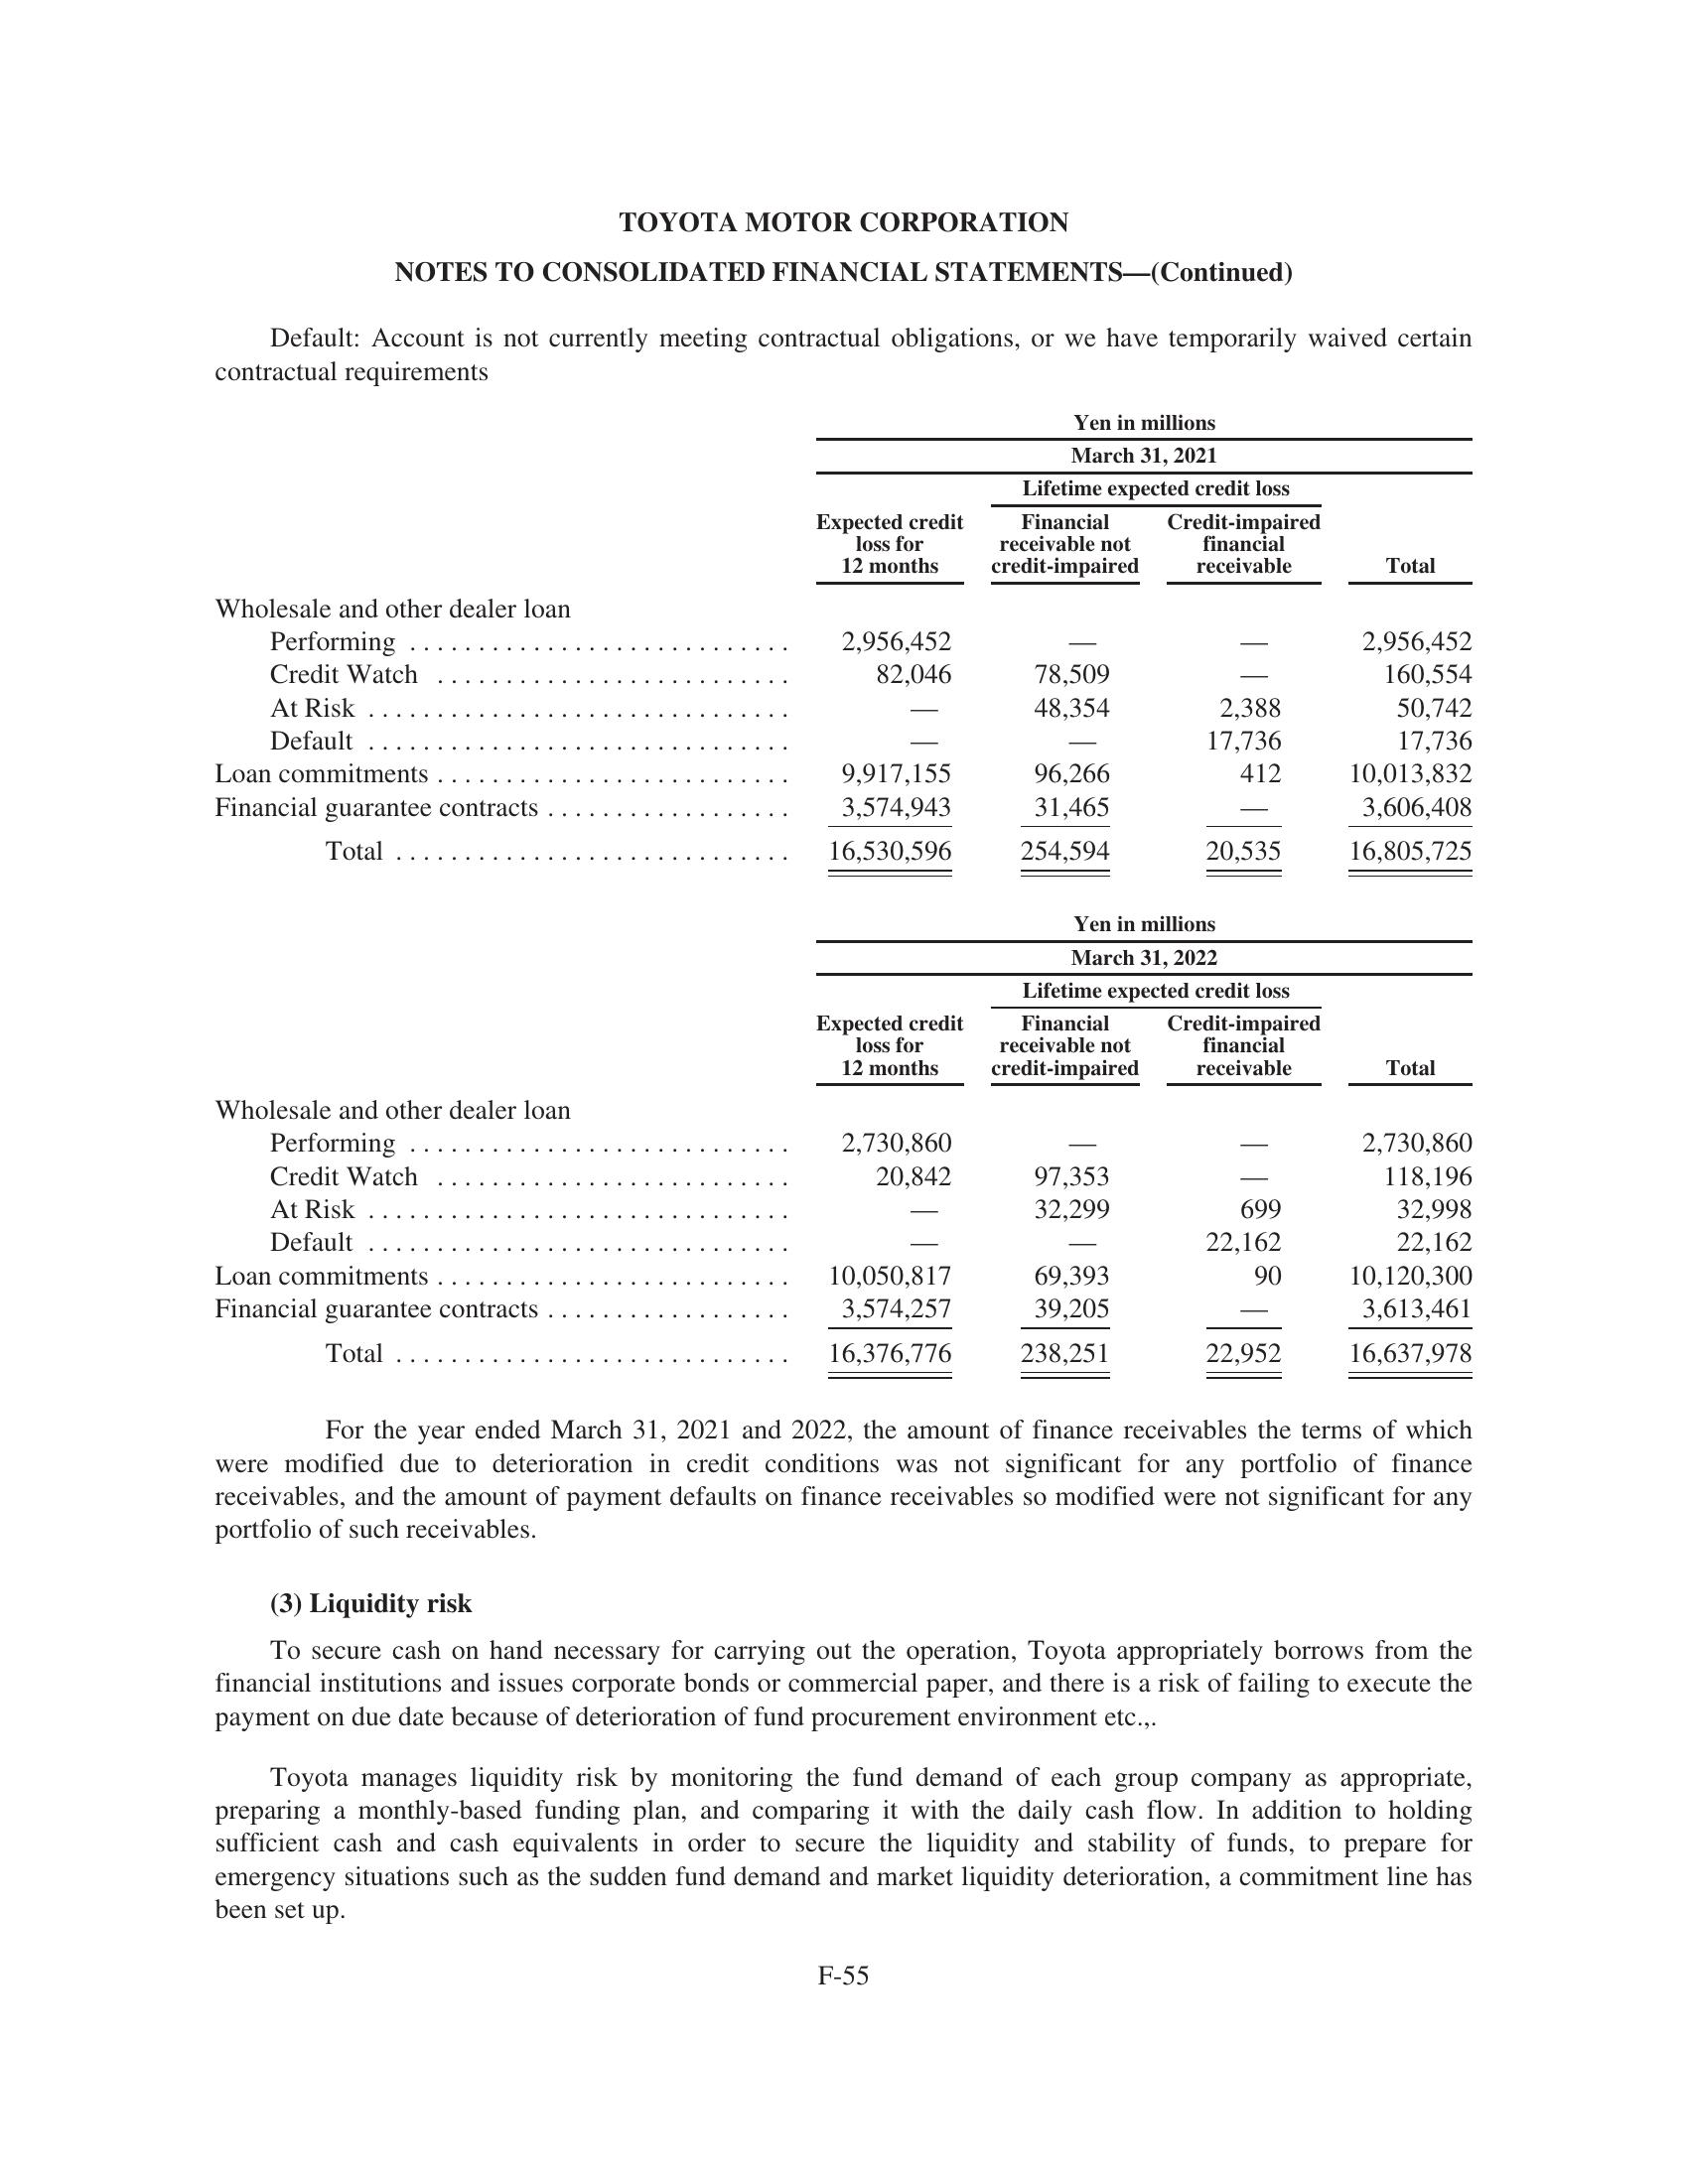Footer: (0, 1950, 1688, 2184)
Header: (0, 0, 1688, 183)
Table: (184, 404, 1509, 895), (167, 906, 1512, 1379)
